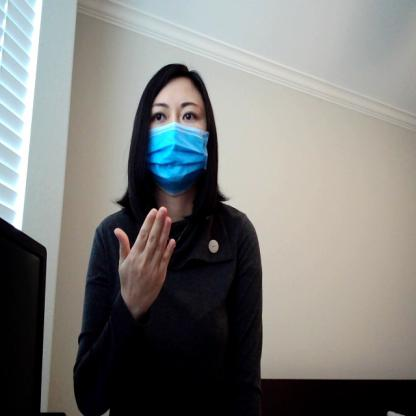thanks: (109, 204, 178, 316)
